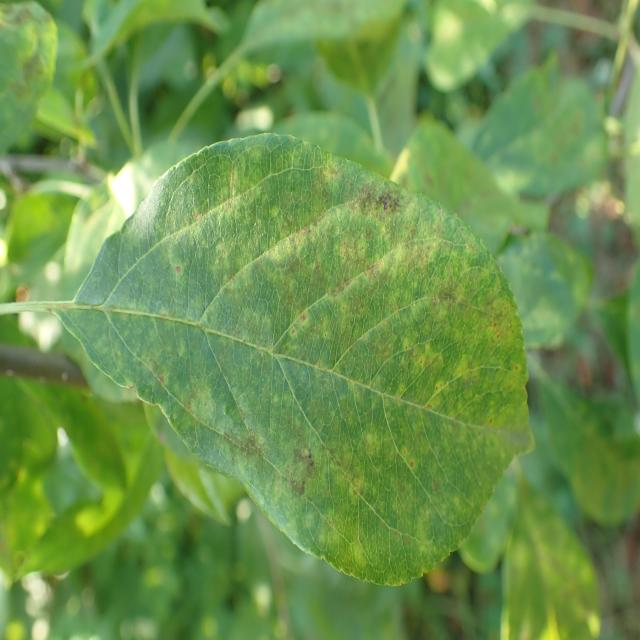scab: (69, 140, 535, 579)
